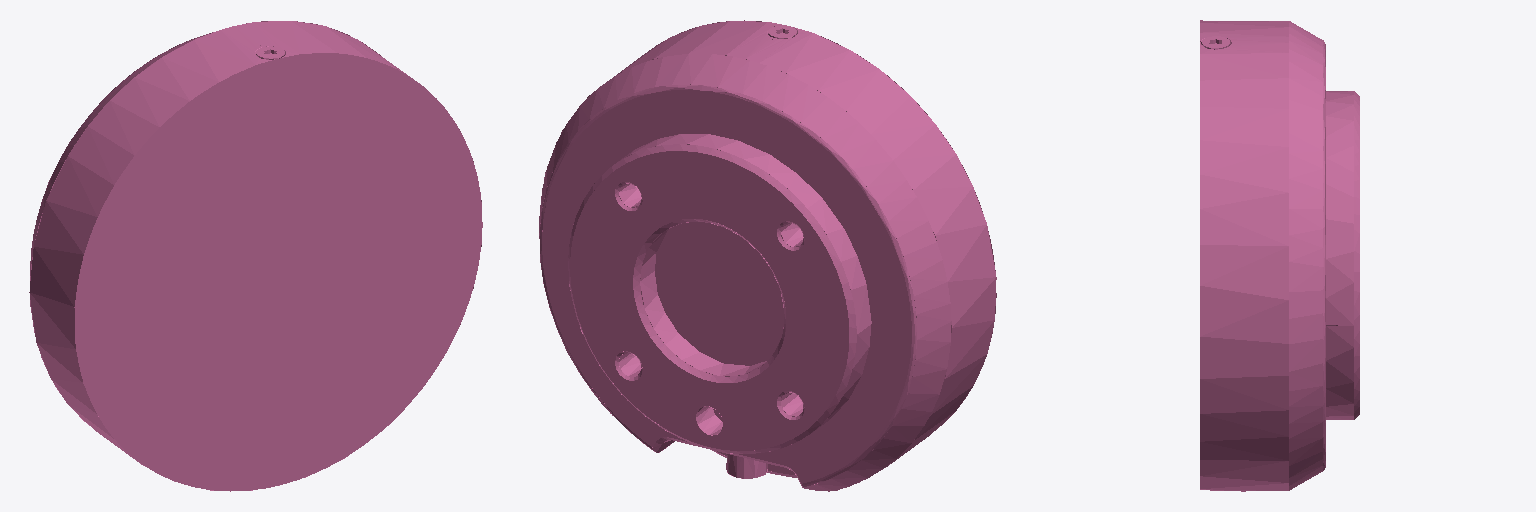
The robot description file, URDF, robot "ur10":
<?xml version="1.0" encoding="utf-8"?>
<robot name="ur10">
    <link name="base_link">
        <collision>
            <origin xyz="0 0 0.02" rpy="0 0 0"/>
            <geometry>
                <cylinder radius="0.075" length="0.03"/>
            </geometry>
        </collision>
        <visual>
            <origin xyz="0 0 0" rpy="0 0 0"/>
            <geometry>
                <mesh filename="../meshes/ur10_base.obj" scale="1 1 1"/>
            </geometry>
        </visual>
        <inertial>
            <mass value="200.0"/>
        </inertial>
    </link>
    <link name="shoulder_link" >
        <visual>
            <origin xyz="0 0 0" rpy="0 0 0"/>
            <geometry>
                <mesh filename="../meshes/ur10_shoulder.obj" scale="1 1 1"/>
            </geometry>
        </visual>
        <collision>
            <origin xyz="0 0.0 0.13" rpy="0 0 0"/>
            <geometry>
                <cylinder radius="0.075" length="0.17"/>
            </geometry>
        </collision>
        <collision>
            <origin xyz="0 .0425 0.128" rpy="1.57079632679 0 0"/>
            <geometry>
                <cylinder radius="0.075" length="0.085"/>
            </geometry>
        </collision>
        <inertial>
            <mass value="7.1"/>
        </inertial>
    </link>
    <link name="upper_arm_link" >
        <visual>
            <origin xyz="0 0 0" rpy="0 0 0"/>
            <geometry>
                <mesh filename="../meshes/ur10_upper_arm.obj" scale="1 1 1"/>
            </geometry>
        </visual>
        <collision>
            <origin xyz="0 0 0" rpy="1.57079632679 0 0"/>
            <geometry>
                <cylinder radius="0.075" length="0.175"/>
            </geometry>
        </collision>
        <collision>
            <origin xyz="0.306 0 0" rpy="0 1.57079632679 0"/>
            <geometry>
                <cylinder radius="0.06" length="0.612"/>
            </geometry>
        </collision>
        <collision>
            <origin xyz="0.612 0 0" rpy="1.57079632679 0 0"/>
            <geometry>
                <cylinder radius="0.06" length="0.136"/>
            </geometry>
        </collision>
        <inertial>
            <mass value="12.7"/>
        </inertial>
    </link>
    <link name="forearm_link" >
        <visual>
            <origin xyz="0 0 0" rpy="0 0 0"/>
            <geometry>
                <mesh filename="../meshes/ur10_forearm.obj" scale="1 1 1"/>
            </geometry>
        </visual>
        <collision>
            <origin xyz="0 -0.00311 0" rpy="1.57079632679 0 0"/>
            <geometry>
                <cylinder radius="0.06" length="0.126"/>
            </geometry>
        </collision>
        <collision>
            <origin xyz="0.286 0 0" rpy="0 1.57079632679 0"/>
            <geometry>
                <cylinder radius="0.047" length="0.572"/>
            </geometry>
        </collision>
        <collision>
            <origin xyz="0.572 0.0028 0" rpy="1.57079632679 0 0"/>
            <geometry>
                <cylinder radius="0.047" length="0.118"/>
            </geometry>
        </collision>
        <inertial>
            <mass value="4.27"/>
        </inertial>
    </link>
    <link name="wrist_1_link" >
        <visual>
            <origin xyz="0 0 0" rpy="0 0 0"/>
            <geometry>
                <mesh filename="../meshes/ur10_wrist_1.obj" scale="1 1 1"/>
            </geometry>
        </visual>
        <collision>
            <origin xyz="0.0 -0.0275 0" rpy="1.57079632679 0 0"/>
            <geometry>
                <cylinder radius="0.047" length="0.055"/>
            </geometry>
        </collision>
        <collision>
            <origin xyz="0.0 0 -0.0028" rpy="0 0 0"/>
            <geometry>
                <cylinder radius="0.047" length="0.118"/>
            </geometry>
        </collision>
        <inertial>
            <mass value="1.0"/>
        </inertial>
    </link>
    <link name="wrist_2_link" >
        <visual>
            <origin xyz="0 0 0" rpy="0 0 0"/>
            <geometry>
                <mesh filename="../meshes/ur10_wrist_2.obj" scale="1 1 1"/>
            </geometry>
        </visual>
        <collision>
            <origin xyz="0.0 0 0.027" rpy="0 0 0"/>
            <geometry>
                <cylinder radius="0.047" length="0.054"/>
            </geometry>
        </collision>
        <collision>
            <origin xyz="0.0 0.0028 0.0" rpy="1.57079632679 0 0"/>
            <geometry>
                <cylinder radius="0.047" length="0.118"/>
            </geometry>
        </collision>
        <inertial>
            <mass value="1.0"/>
        </inertial>
    </link>
    <link name="wrist_3_link" >
        <visual>
            <origin xyz="0 0 0" rpy="0 0 0"/>
            <geometry>
                <mesh filename="../meshes/ur10_wrist_3.obj" scale="1 1 1"/>
            </geometry>
        </visual>
        <collision>
            <origin xyz="0.0 -0.015 0.0" rpy="1.57079632679 0 0"/>
            <geometry>
                <cylinder radius="0.047" length="0.03"/>
            </geometry>
        </collision>
        <inertial>
            <mass value="0.365"/>
        </inertial>
    </link>
    <joint name="shoulder_pan_joint" type="revolute">
        <origin xyz="0 0 0" rpy="0 0 0"/>
        <axis xyz="0 0 1" />
        <limit upper="6.28318" lower="-6.28318" velocity="2.0944" effort="330" />
        <parent link="base_link" />
        <child link ="shoulder_link" />
    </joint>
    <joint name="shoulder_lift_joint" type="revolute">
        <origin xyz="0 .176 0.128" rpy="0 0 0"/>
        <axis xyz="0 1 0" />
        <limit upper="6.28318" lower="-6.28318" velocity="2.0944" effort="330.0" />
        <parent link ="shoulder_link" />
        <child link="upper_arm_link" />
    </joint>
    <joint name="elbow_joint" type="revolute">
        <origin xyz="0.612 -0.128 0" rpy="0 0 0"/>
        <axis xyz="0 1 0" />
        <limit upper="6.28318" lower="-6.28318" velocity="3.14159" effort="150.0" />
        <parent link ="upper_arm_link" />
        <child link="forearm_link" />
    </joint>
    <joint name="wrist_1_joint" type="revolute">
        <origin xyz="0.572 0.116 0" rpy="0 0 0"/>
        <axis xyz="0 1 0" />
        <limit upper="6.28318" lower="-6.28318" velocity="3.14159" effort="56.0" />
        <parent link ="forearm_link" />
        <child link="wrist_1_link" />
    </joint>
    <joint name="wrist_2_joint" type="revolute">
        <origin xyz="0 0 -0.116" rpy="0 0 0"/>
        <axis xyz="0 0 -1" />
        <limit upper="6.28318" lower="-6.28318" velocity="3.14159" effort="56.0" />
        <parent link ="wrist_1_link" />
        <child link="wrist_2_link" />
    </joint>
    <joint name="wrist_3_joint" type="revolute">
        <origin xyz="0 0.092 0" rpy="0 0 0"/>
        <axis xyz="0 1 0" />
        <limit upper="6.28318" lower="-6.28318" velocity="3.14159" effort="56.0" />
        <parent link ="wrist_2_link" />
        <child link="wrist_3_link" />
    </joint>
</robot>

--- Facts derived from the render (not from the file) ---
Views: 3 orthographic renders of the robot side by side, from view 1: azimuth 30°, elevation 25°; view 2: azimuth 150°, elevation 25°; view 3: azimuth 270°, elevation 25°.
Robot: ur10 — 7 links, 6 joints (6 revolute); root link base_link; default pose: every joint at zero.
Links seen in each view (by area): view 1: wrist_3_link; view 2: wrist_3_link; view 3: wrist_3_link.
Link boxes in pixels (<box>): wrist_3_link: <box>29,21,482,491</box>; wrist_3_link: <box>539,20,996,491</box>; wrist_3_link: <box>1200,20,1359,491</box>.
Bounding box of the posed robot: 0.0901 × 0.0305 × 0.0901 m (x, y, z).
1 mesh visuals loaded from 7 distinct referenced files (1 OBJ); not drawn: 6 (reference not matched to a file when rendering).